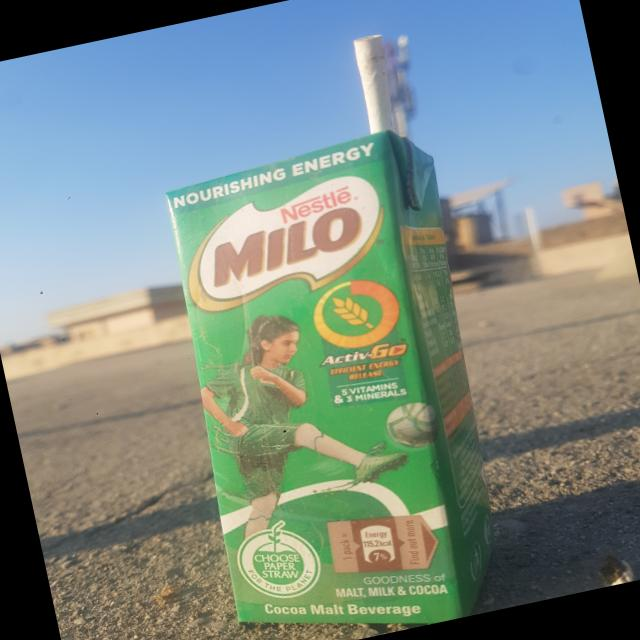electronic: (145, 121, 526, 640)
